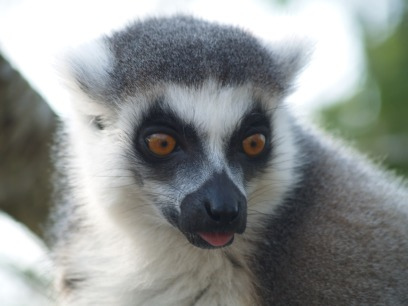cat: (44, 10, 407, 305)
